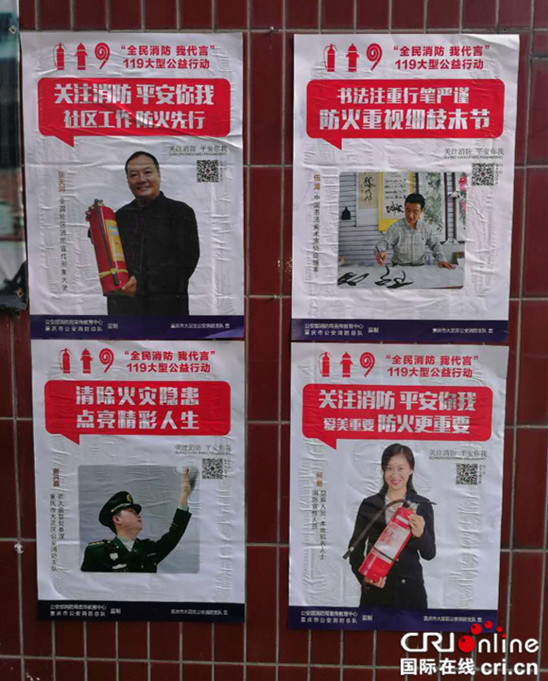bill: (21, 29, 246, 338), (293, 30, 519, 331), (290, 338, 509, 627), (35, 339, 249, 619)
